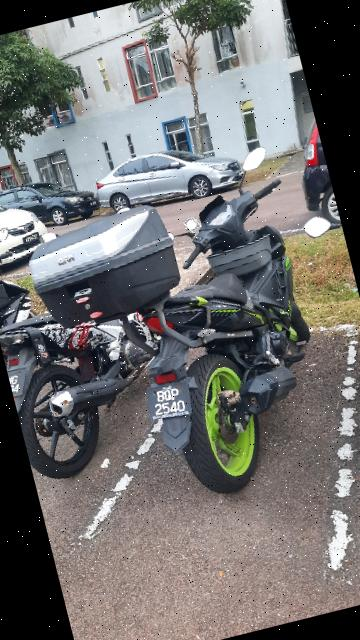License_Plate: (146, 379, 198, 427)
car: (90, 129, 251, 224), (1, 169, 99, 236), (1, 186, 57, 273)
motorcycle: (19, 147, 347, 526), (1, 261, 195, 483)
